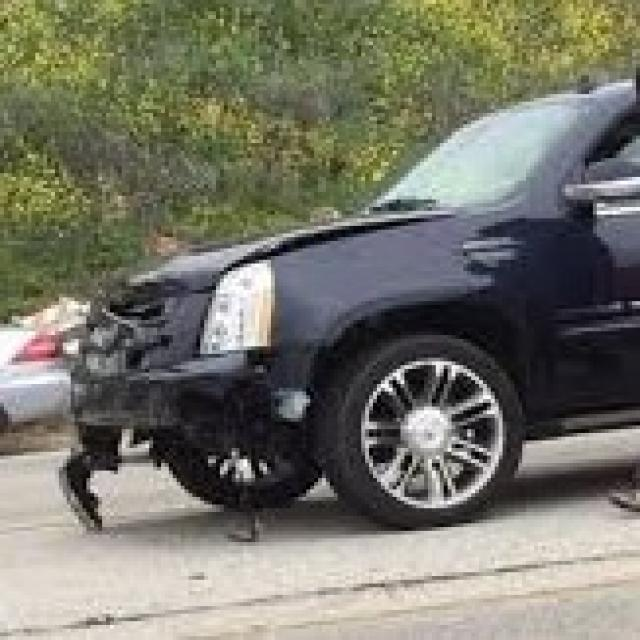moderate: (39, 205, 560, 533)
